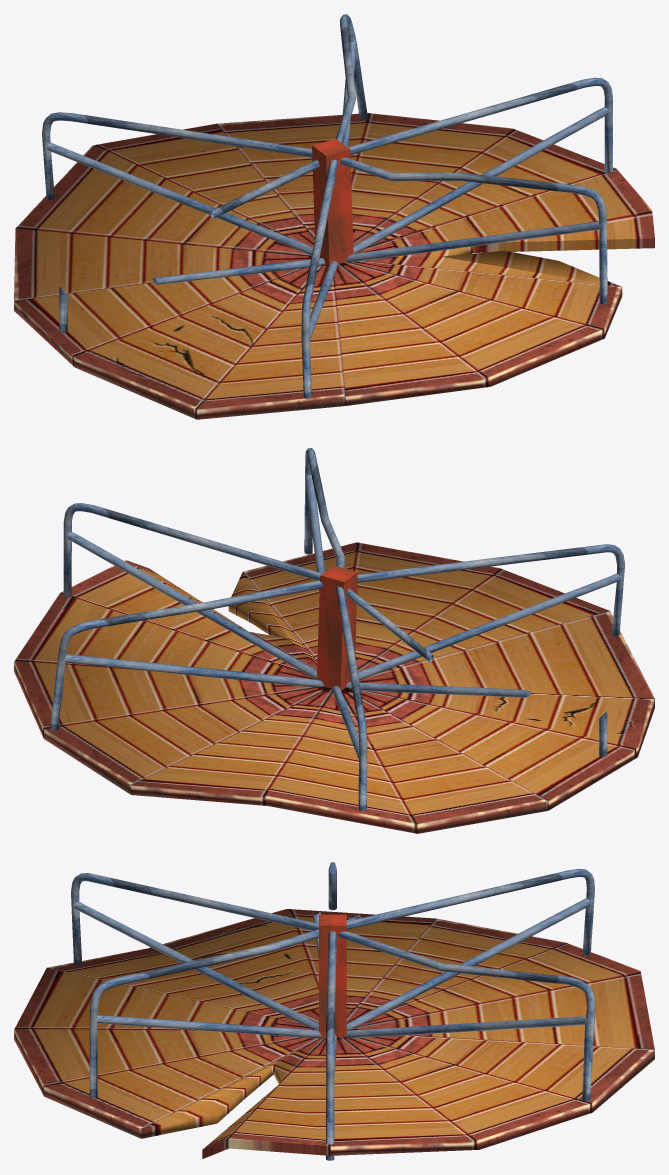
Rendered from Model_GoAround_01.fbx.
The picture shows the model from 3 angles, top to bottom: view 1: azimuth 30°, elevation 25°; view 2: azimuth 150°, elevation 25°; view 3: azimuth 270°, elevation 25°; orthographic projection.
Parts seen in each view (by area): view 1: GoAround1; view 2: GoAround1; view 3: GoAround1.
Part boxes in pixels (bbox=[...]): GoAround1: bbox=[14, 14, 654, 419]; GoAround1: bbox=[14, 448, 654, 833]; GoAround1: bbox=[14, 862, 654, 1160].
Size of the model in its own units: 453 by 120 by 451.
